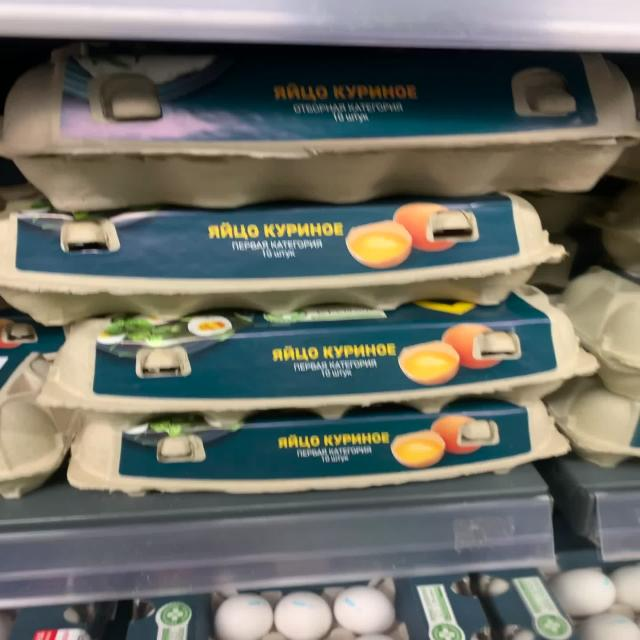egg box: (4, 44, 636, 212), (33, 279, 596, 425), (5, 184, 567, 323), (68, 398, 570, 493)
